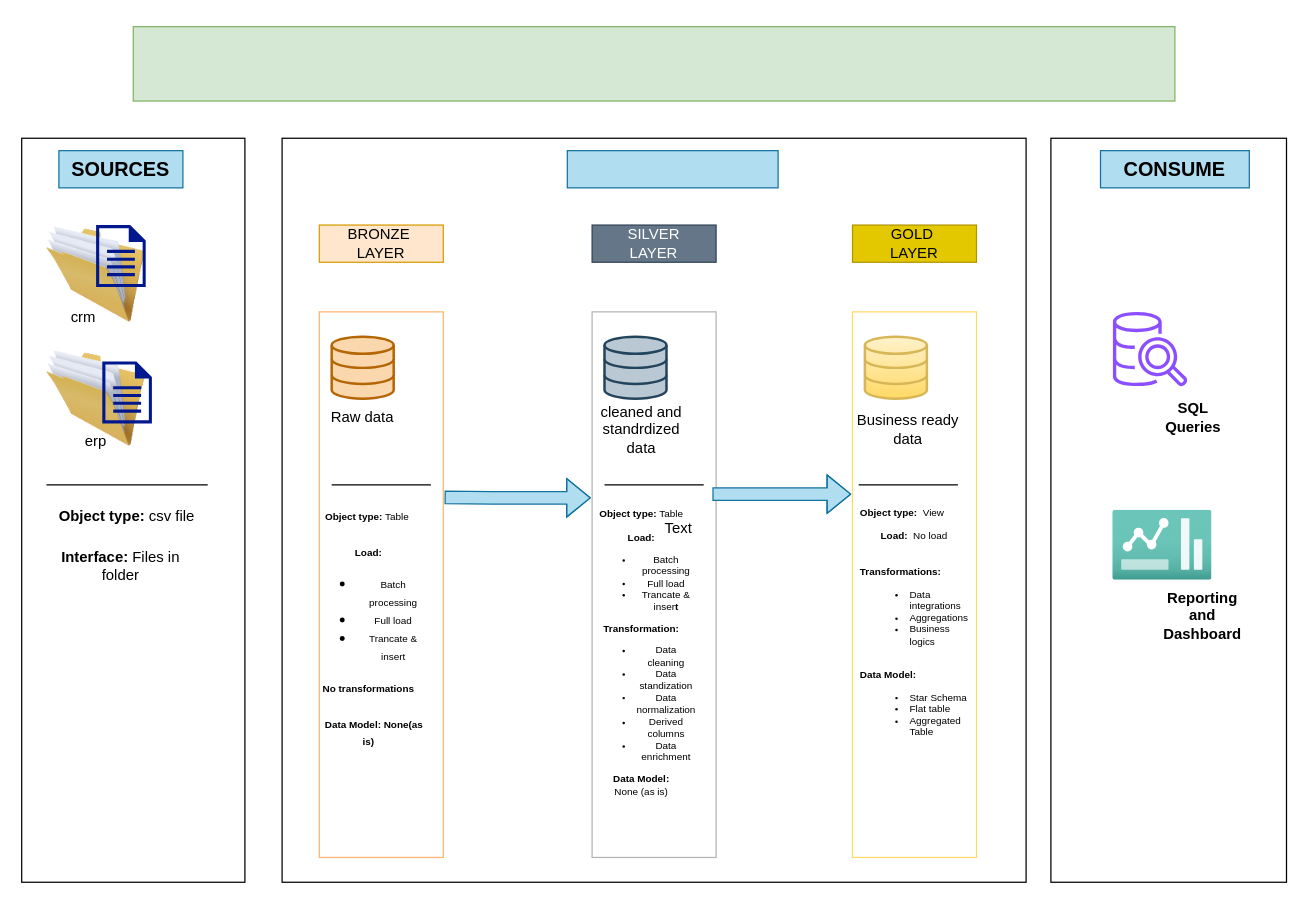
The diagram is 1308 pixels wide and 904 high, and some of its shapes have lost their labels. Each missing label, with the centre of its shape:
"DATA WAREHOUSE" goes at [672,168].
"High Level Architecture" goes at [653,63].
